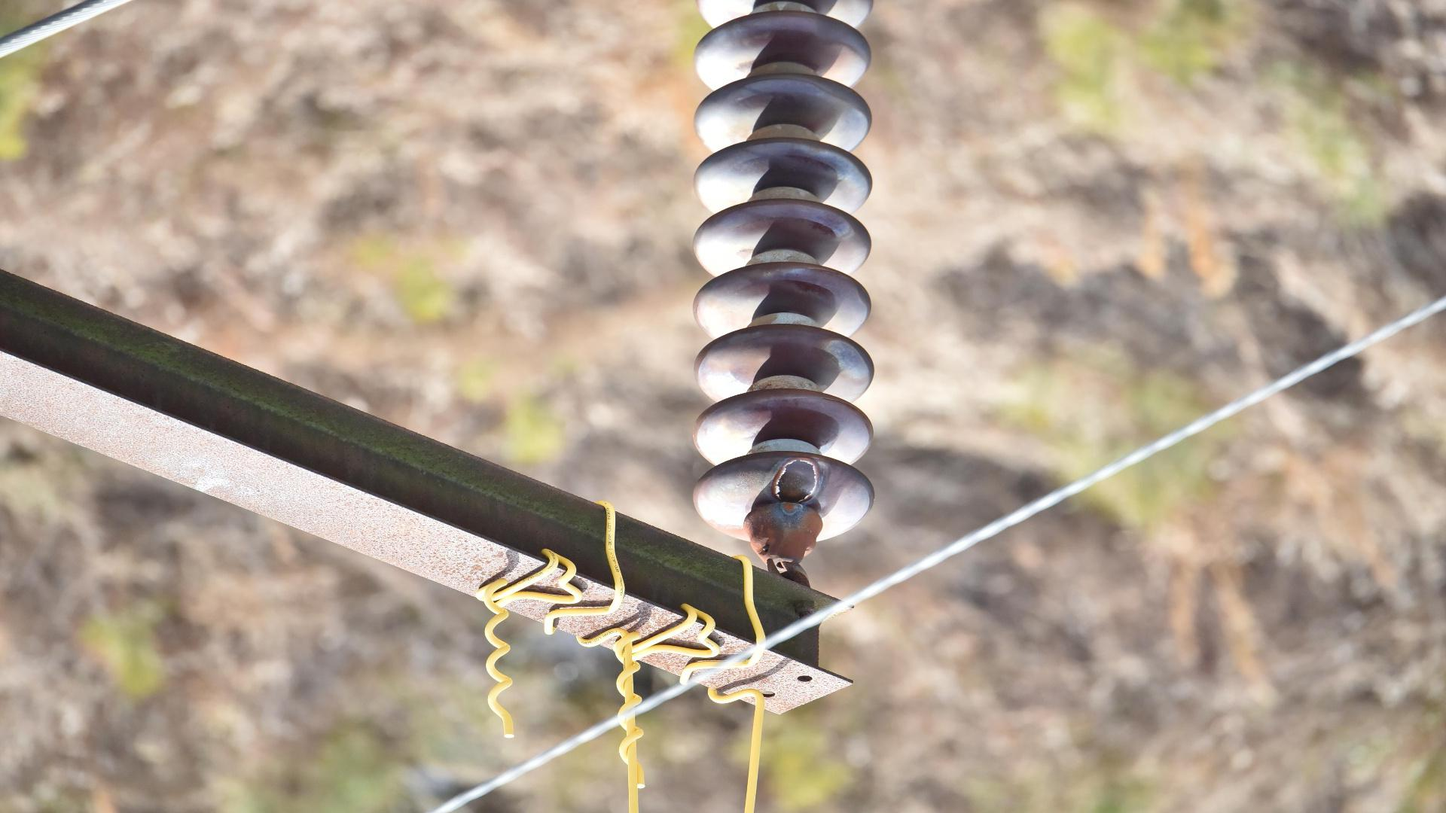insulator: (681, 1, 882, 543)
insulator_flashover: (772, 457, 822, 505)
